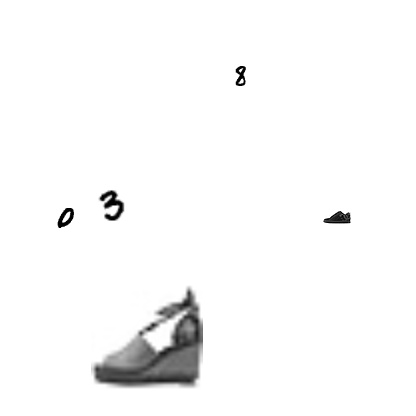1: (321, 155, 343, 177)
2: (27, 166, 49, 188)
Coat: (78, 169, 120, 211)
Shirt: (285, 263, 327, 305)
Sneaker: (166, 176, 208, 218)
Trouser: (0, 271, 14, 285)
